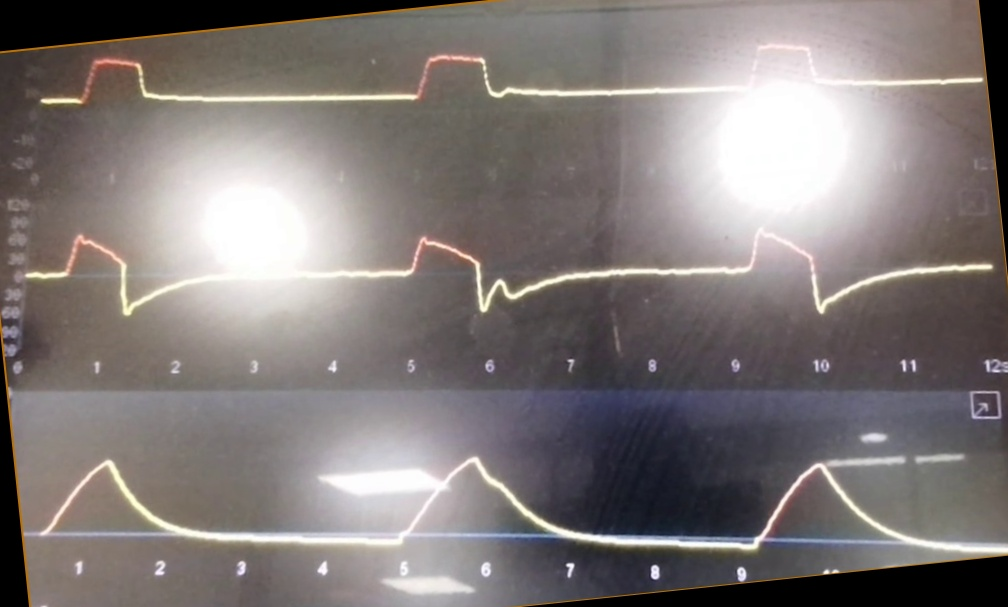Premature_cycling Flow: (29, 213, 995, 339)
Premature_cycling Volume: (38, 423, 980, 552)
